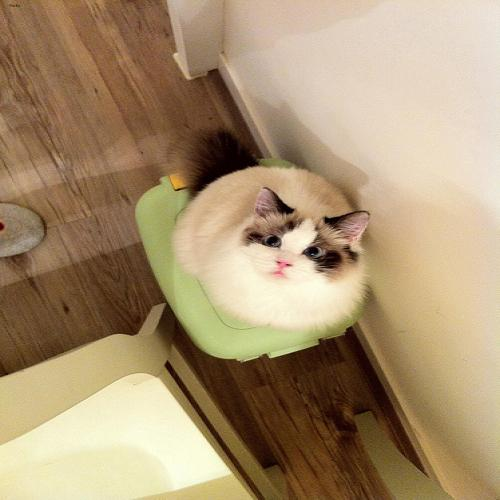ragdoll: (226, 188, 373, 298)
